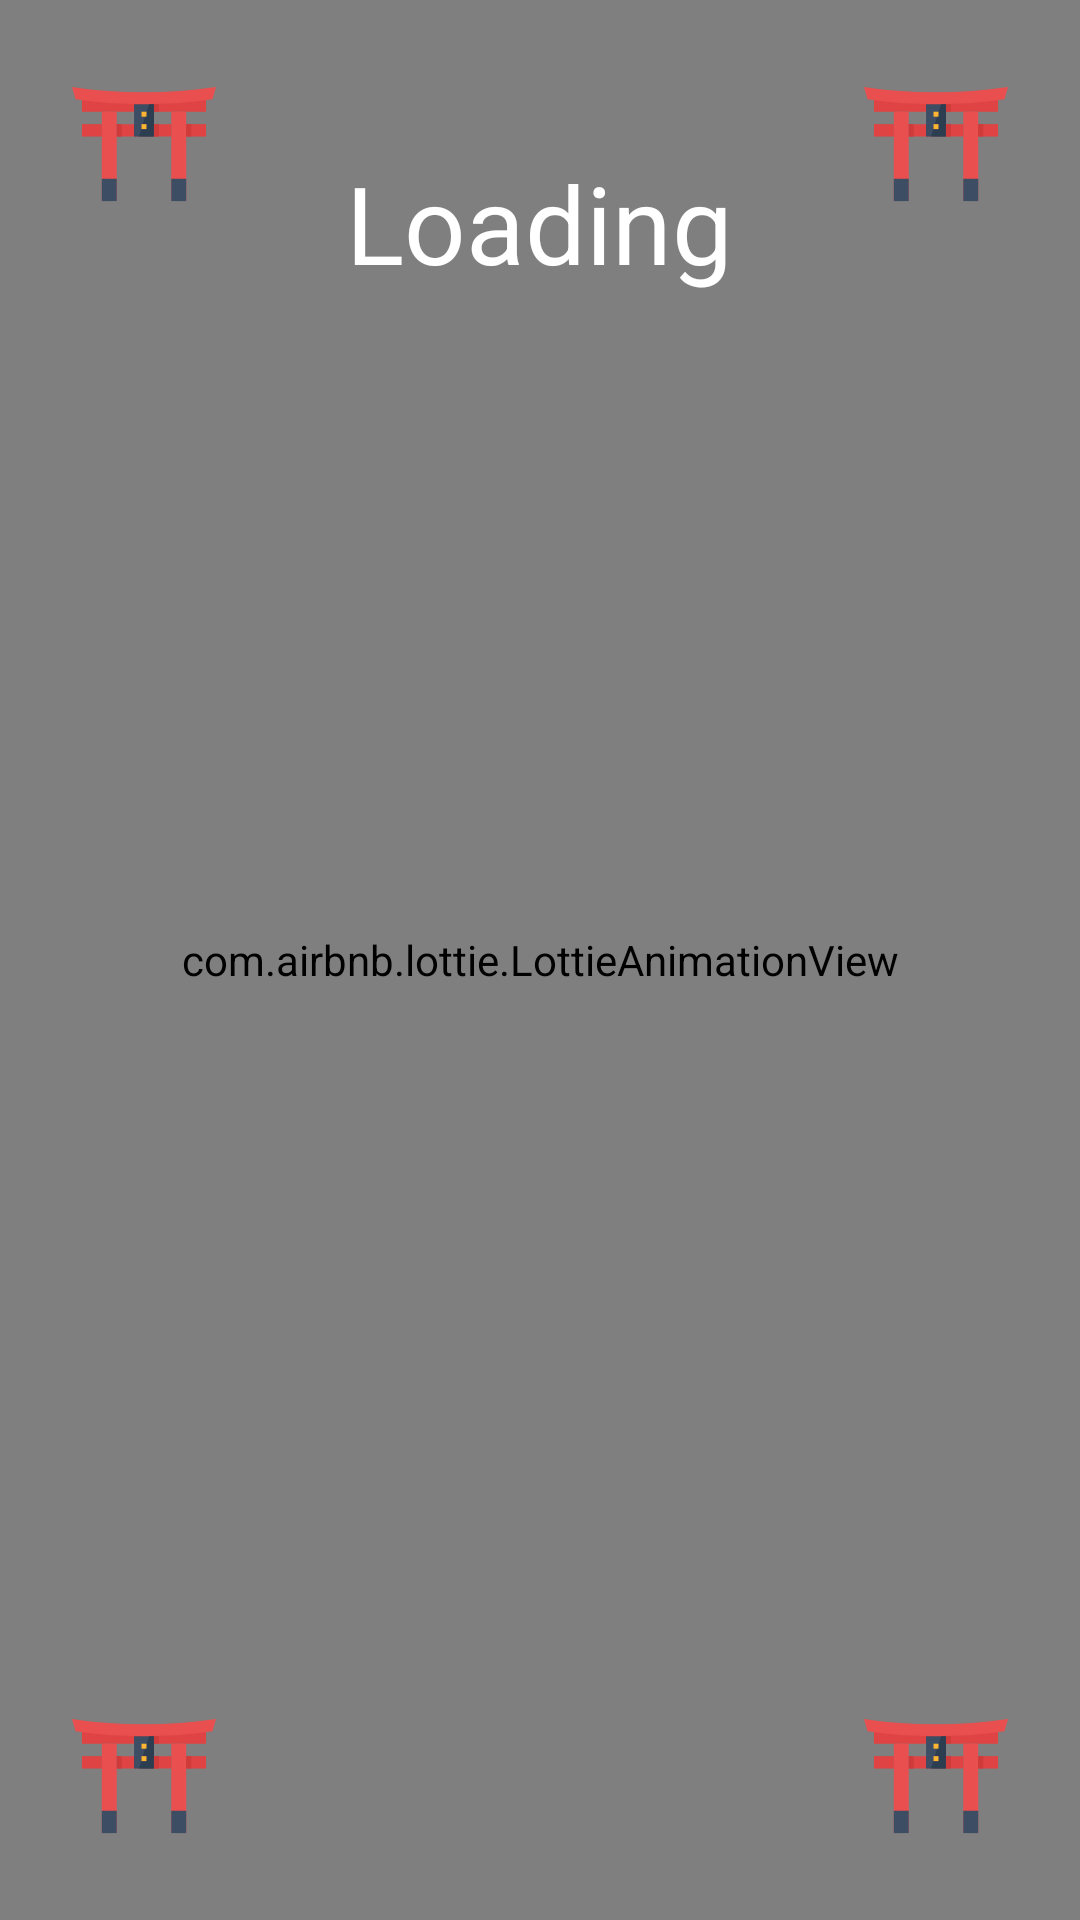

Where to tap for icons on this 1080w x 1920h app screen, as point (x, y):
japan: point (144, 144), point (936, 144), point (144, 1776), point (936, 1776)
